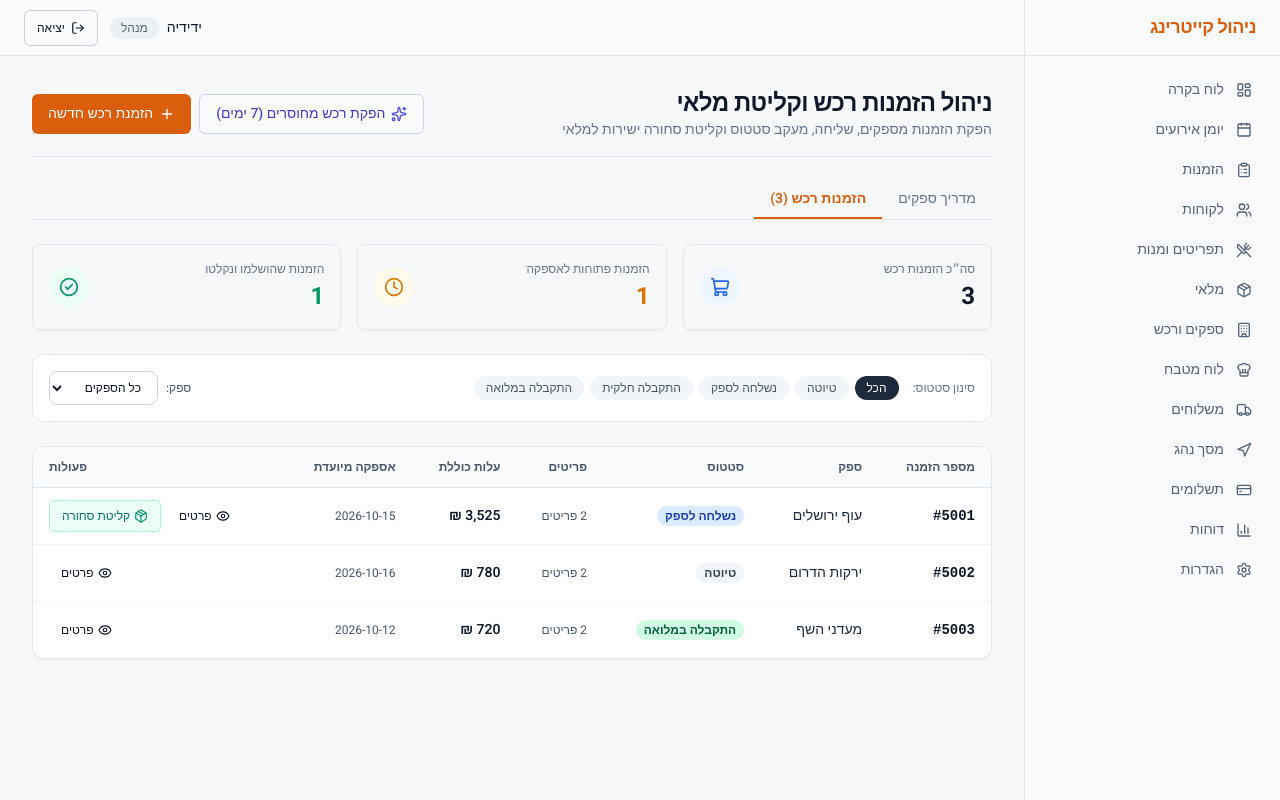
Scenario: S11 Suppliers & Purchase Orders › opens purchase order details modal
The image size is (1280, 800).
Step 1. Click the button "פרטים" in the row of "5001" → (204, 516), box [167,500,242,532]
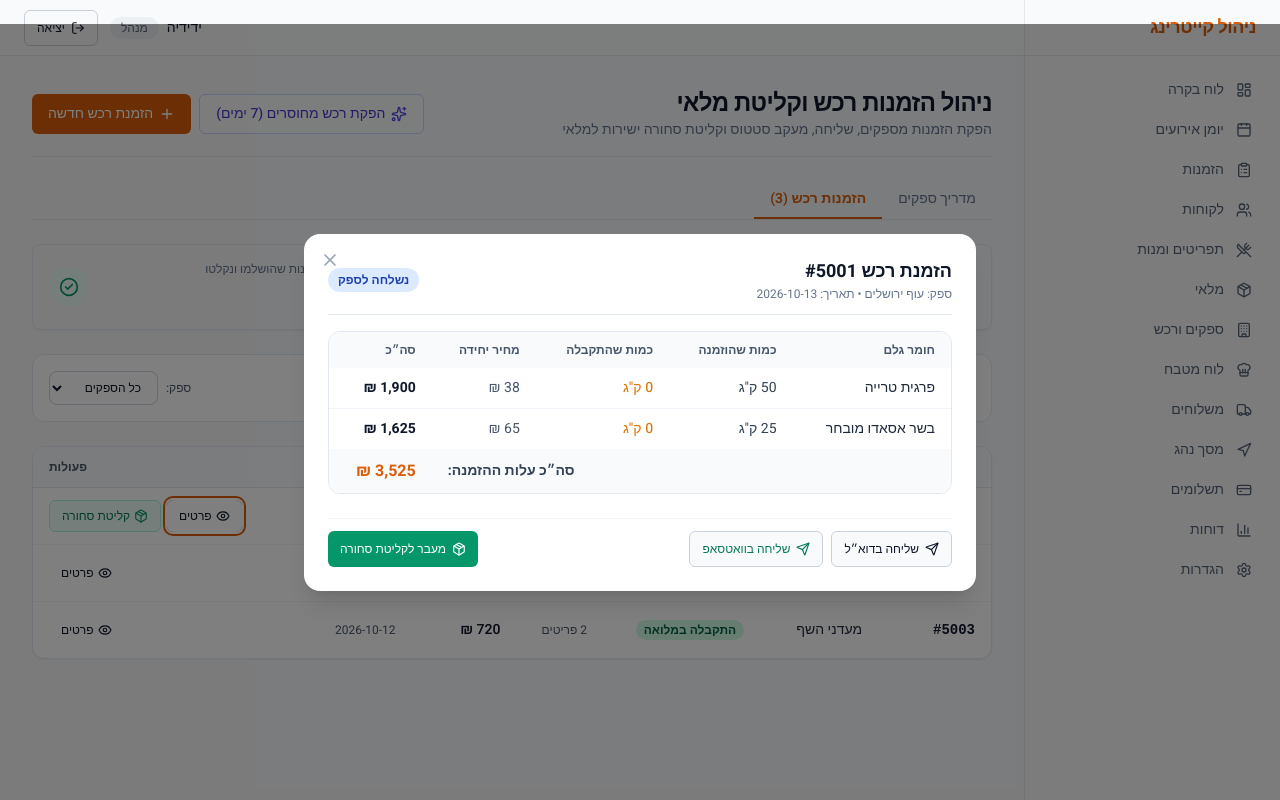
Expected: the heading "הזמנת רכש #5001" is shown, [805,258,952,284]
Expected: the button "שליחה בדוא״ל" is shown, [831,530,952,566]
